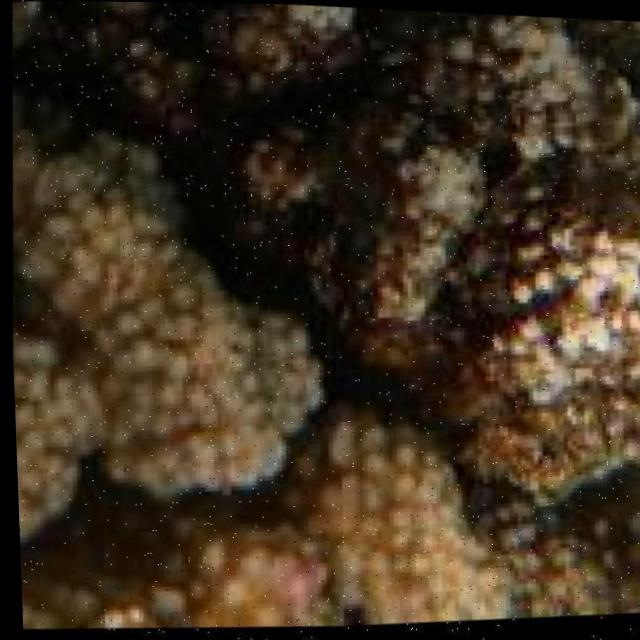Bleached Coral: (4, 154, 326, 549), (308, 411, 513, 640)
Dead Coral: (259, 9, 640, 475)
